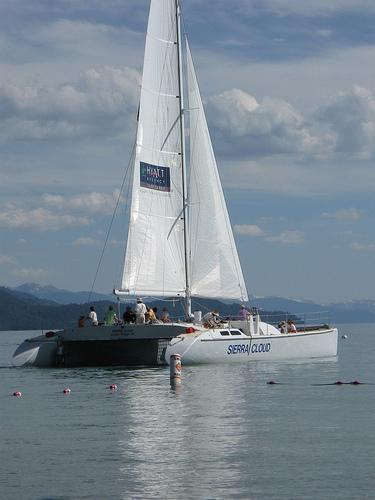Ship: (15, 1, 341, 368)
